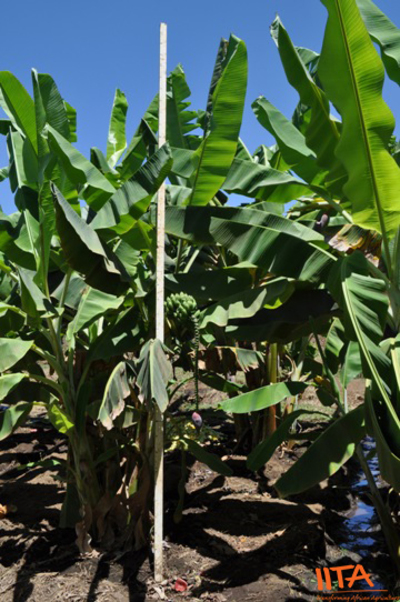bananaHand: (162, 289, 201, 325)
